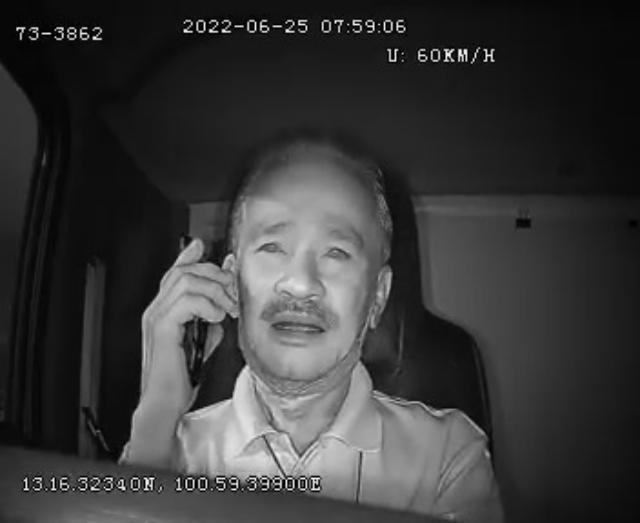PhoneUse: (174, 224, 218, 392)
SafeDriving: (316, 231, 360, 272), (248, 226, 294, 264)
